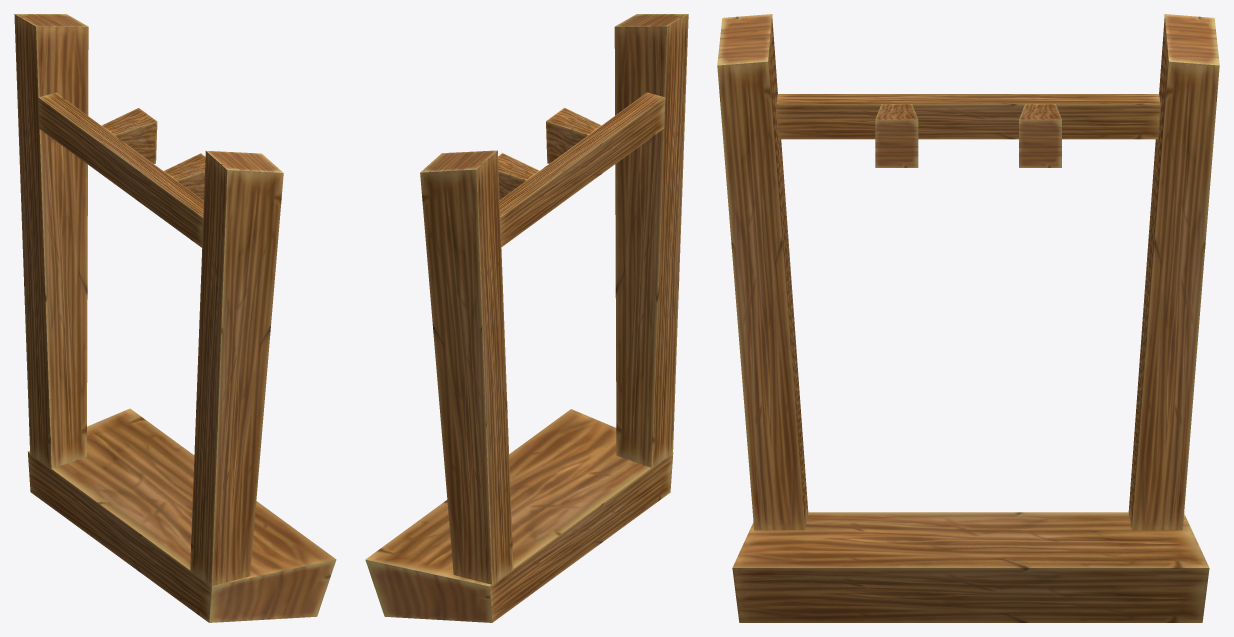
File: gunrack02a.obj
The picture shows the model from 3 angles, left to right: view 1: azimuth 30°, elevation 25°; view 2: azimuth 150°, elevation 25°; view 3: azimuth 270°, elevation 25°; orthographic projection. The views are drawn at different scales.
Parts seen in each view (by area): view 1: gunrack02a; view 2: gunrack02a; view 3: gunrack02a.
Part boxes in pixels (x1=…): gunrack02a: x1=14, y1=14, x2=336, y2=622; gunrack02a: x1=365, y1=14, x2=688, y2=622; gunrack02a: x1=717, y1=14, x2=1219, y2=622.
Bounding box in the file's own units: 0.389 × 1.57 × 1.29.
1 material, 1 textured.
